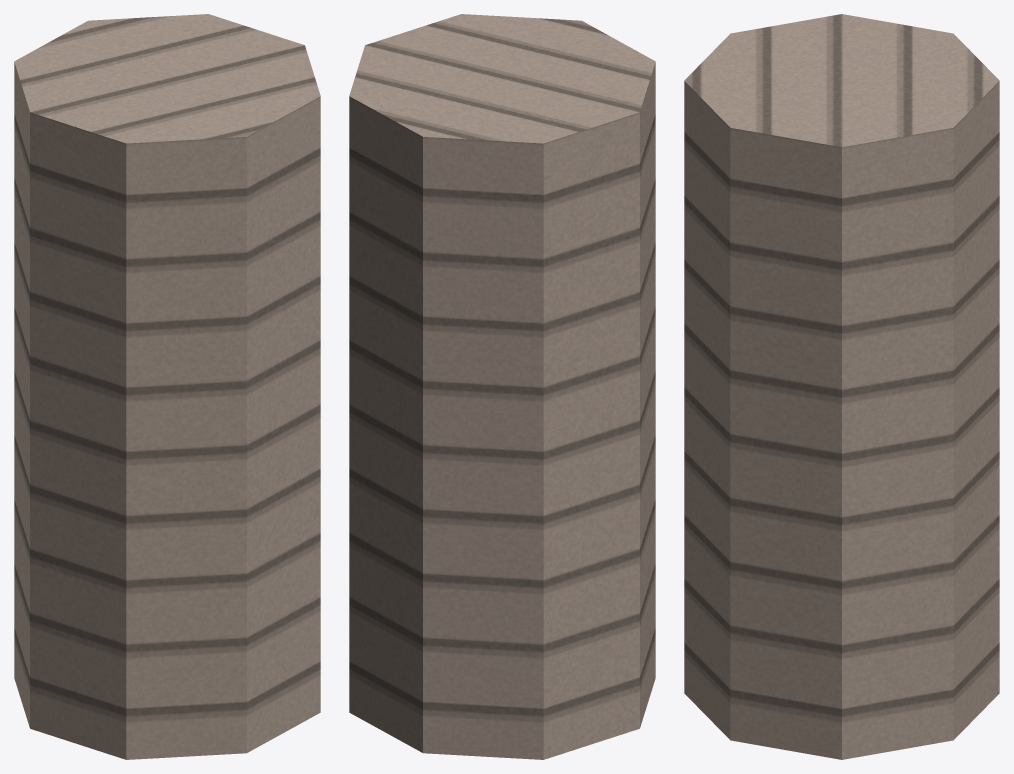
File: tree_dead_ash_stump.glb
The picture shows the model from 3 angles, left to right: view 1: azimuth 30°, elevation 25°; view 2: azimuth 150°, elevation 25°; view 3: azimuth 270°, elevation 25°; orthographic projection.
Visible parts, largest first — view 1: tree_dead_ash_stump-col; view 2: tree_dead_ash_stump-col; view 3: tree_dead_ash_stump-col.
Part boxes in pixels (<box>): tree_dead_ash_stump-col: <box>14,14,320,759</box>; tree_dead_ash_stump-col: <box>349,14,655,759</box>; tree_dead_ash_stump-col: <box>684,14,999,759</box>.
Size of the model in its own units: 0.56 by 1.2 by 0.56.
Materials: 1 (1 with a texture image).
